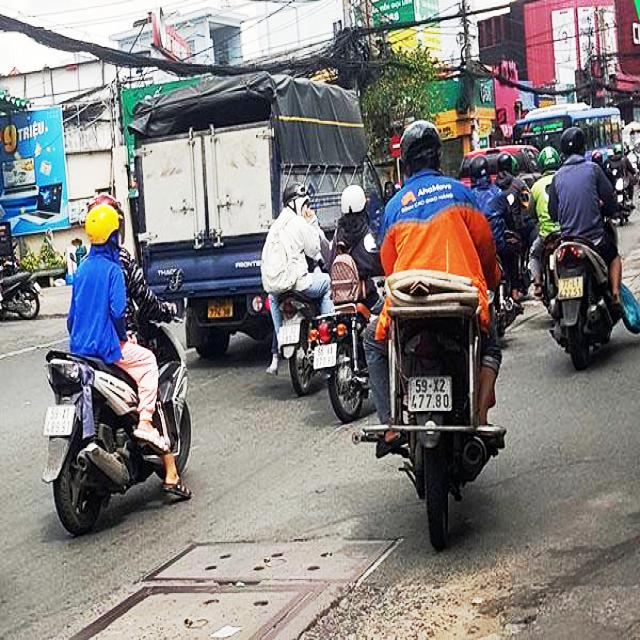license_plate: (409, 374, 455, 414), (45, 407, 75, 436)
